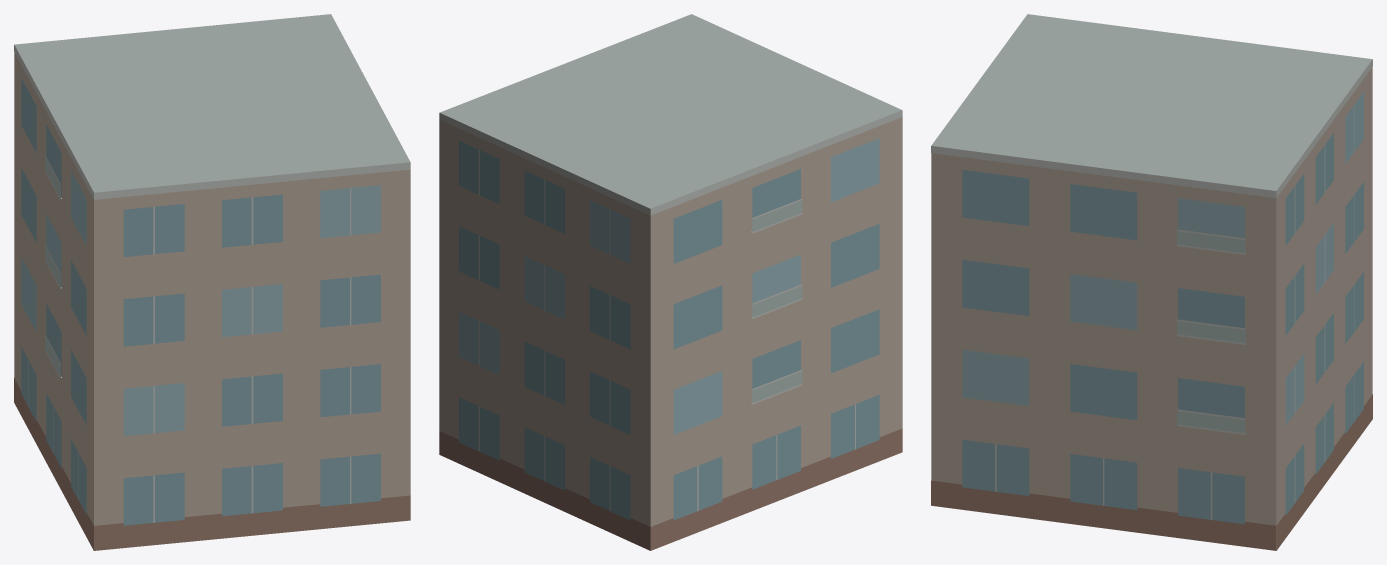
File: residential-8592363c-58ca-41d4-b3d5-fed32d93910f.glb
The picture shows the model from 3 angles, left to right: view 1: azimuth 30°, elevation 25°; view 2: azimuth 150°, elevation 25°; view 3: azimuth 270°, elevation 25°; orthographic projection. The views are drawn at different scales.
Visible parts, largest first — view 1: residential-8592363c-58ca-41d4-b3d5-fed32d93910f.tmp; view 2: residential-8592363c-58ca-41d4-b3d5-fed32d93910f.tmp; view 3: residential-8592363c-58ca-41d4-b3d5-fed32d93910f.tmp.
Part boxes in pixels (x1,y1,x2,y2): residential-8592363c-58ca-41d4-b3d5-fed32d93910f.tmp: (14,14,410,550); residential-8592363c-58ca-41d4-b3d5-fed32d93910f.tmp: (439,14,902,550); residential-8592363c-58ca-41d4-b3d5-fed32d93910f.tmp: (931,14,1372,550).
Size of the model in its own units: 12.88 by 12.2 by 13.58.
